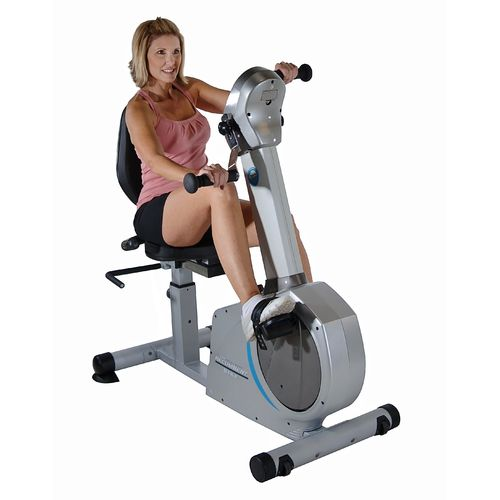gym_bike: (81, 50, 405, 485)
